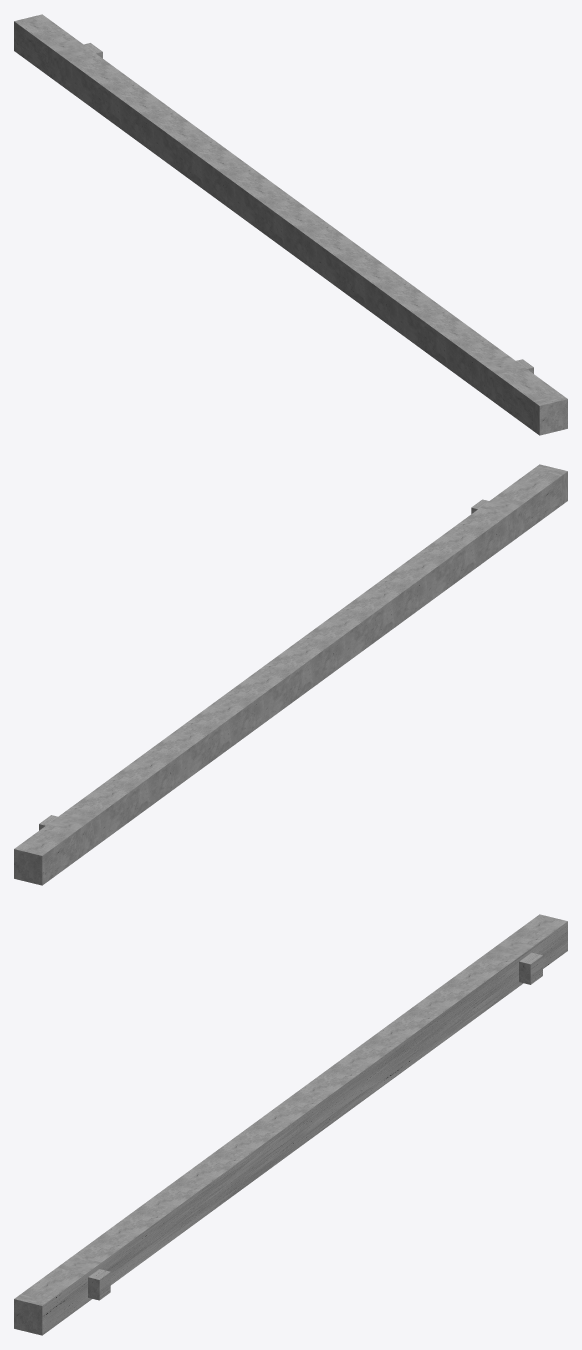
The model's file is handrail.glb.
3 views of the same model, one above another, from view 1: azimuth 30°, elevation 25°; view 2: azimuth 150°, elevation 25°; view 3: azimuth 330°, elevation 25° (orthographic).
Parts seen in each view (by area): view 1: handrail_right; view 2: handrail_right; view 3: handrail_right.
Part boxes in pixels (left/top/right/bottom): handrail_right: left=14, top=14, right=567, bottom=435; handrail_right: left=14, top=464, right=567, bottom=885; handrail_right: left=14, top=914, right=567, bottom=1335.
Size of the model in its own units: 0.6584 by 0.4668 by 15.
Materials: 1 (1 with a texture image).
